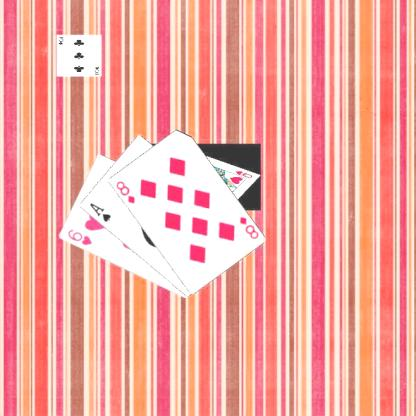6H: (64, 226, 93, 247)
8D: (112, 178, 136, 205), (236, 214, 260, 241)
AS: (87, 200, 112, 223)
